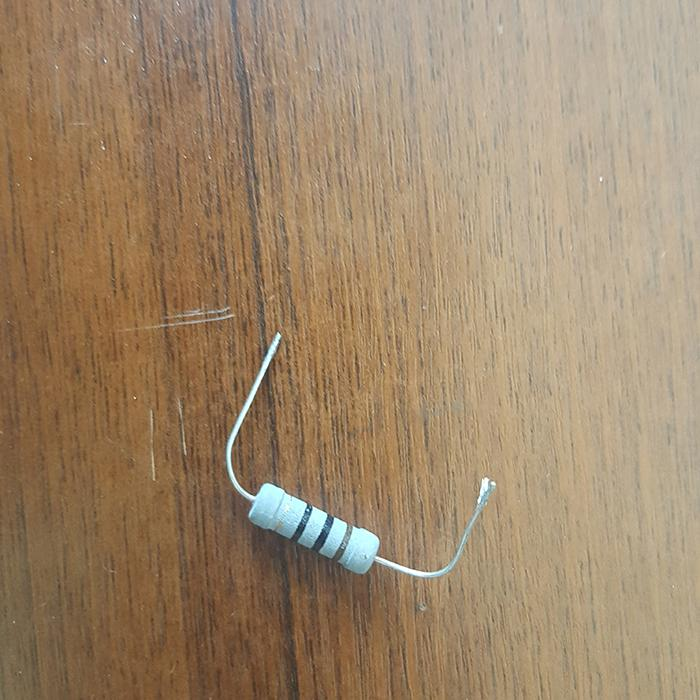resistor: (245, 478, 381, 574)
